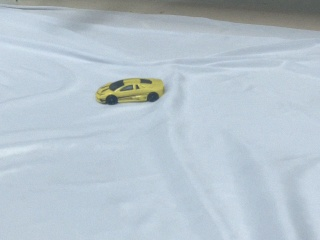toy_car: (95, 78, 165, 105)
